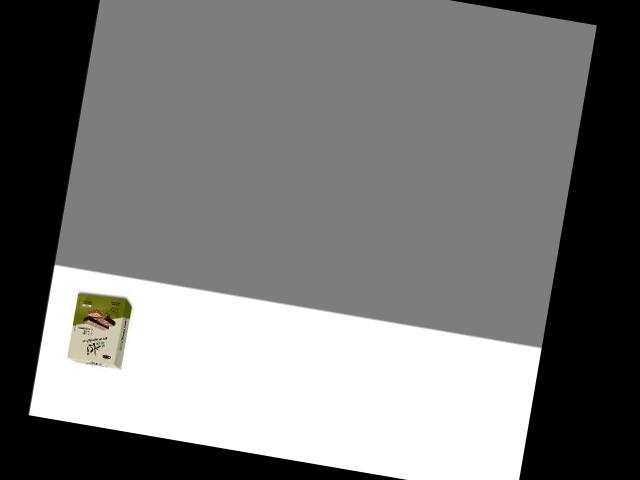chocolate: (65, 288, 137, 371)
